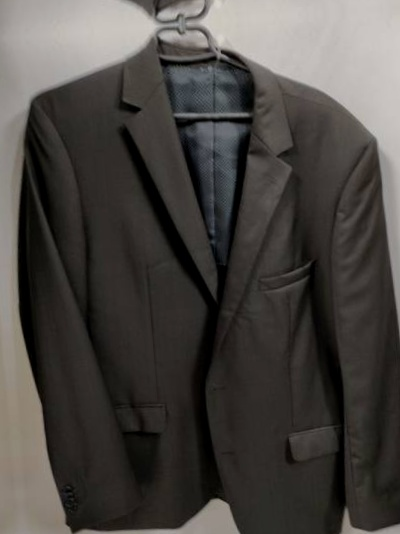Blazer: (1, 31, 400, 534), (0, 0, 393, 14), (0, 65, 9, 534)
